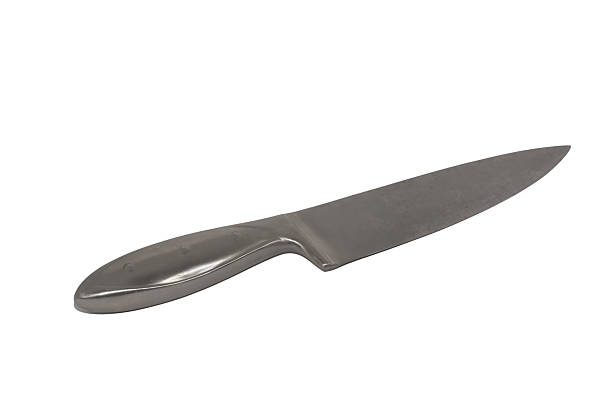knife: (72, 144, 573, 317)
